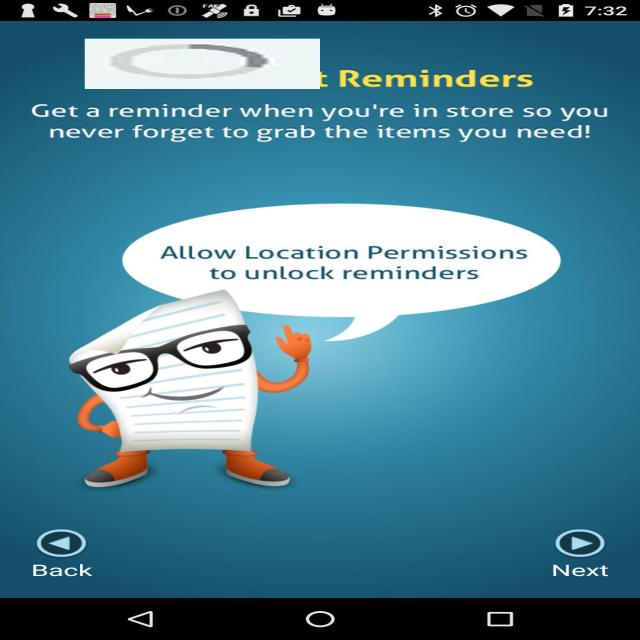misdirection: (85, 39, 320, 89)
